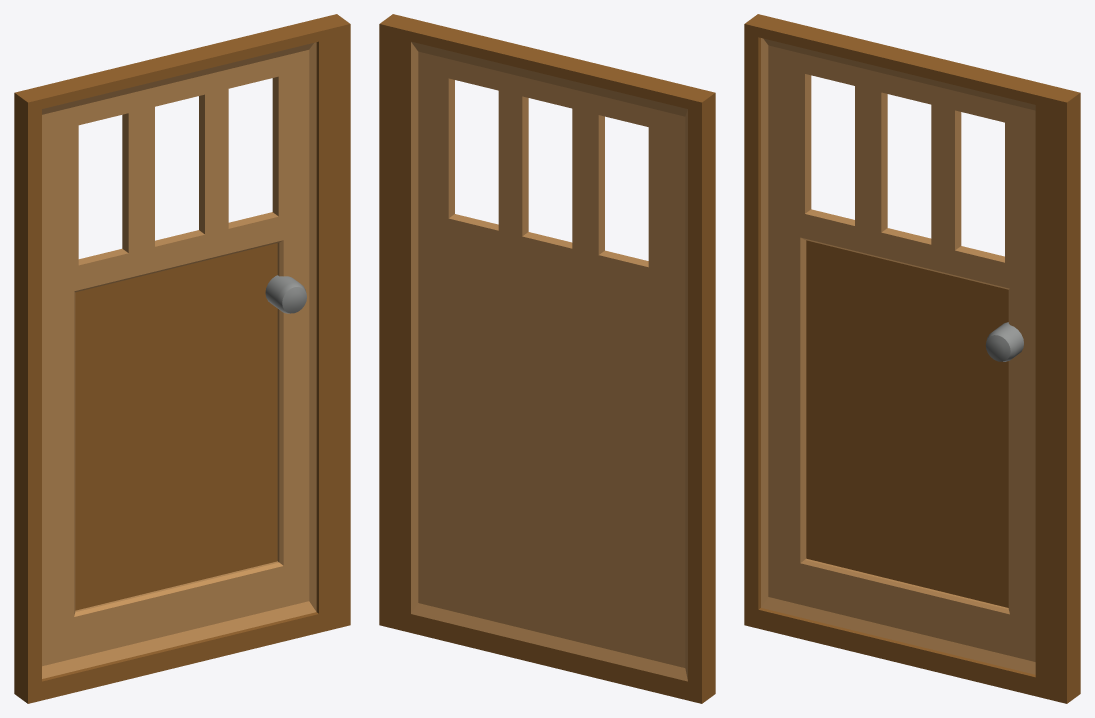
Rendered from m_Door_Leon_Goihl.fbx.
The picture shows the model from 3 angles, left to right: view 1: azimuth 30°, elevation 25°; view 2: azimuth 150°, elevation 25°; view 3: azimuth 330°, elevation 25°; orthographic projection.
Visible parts, largest first — view 1: pCylinder37, polySurface1; view 2: pCylinder37, polySurface1; view 3: pCylinder37, polySurface1.
Boxes of the visible parts, x1=… form: pCylinder37: x1=42, y1=42, x2=316, y2=678; polySurface1: x1=14, y1=14, x2=350, y2=703; pCylinder37: x1=411, y1=41, x2=687, y2=681; polySurface1: x1=379, y1=14, x2=715, y2=703; pCylinder37: x1=761, y1=38, x2=1035, y2=674; polySurface1: x1=744, y1=14, x2=1080, y2=703.
Bounding box in the file's own units: 117 × 208 × 13.3.
